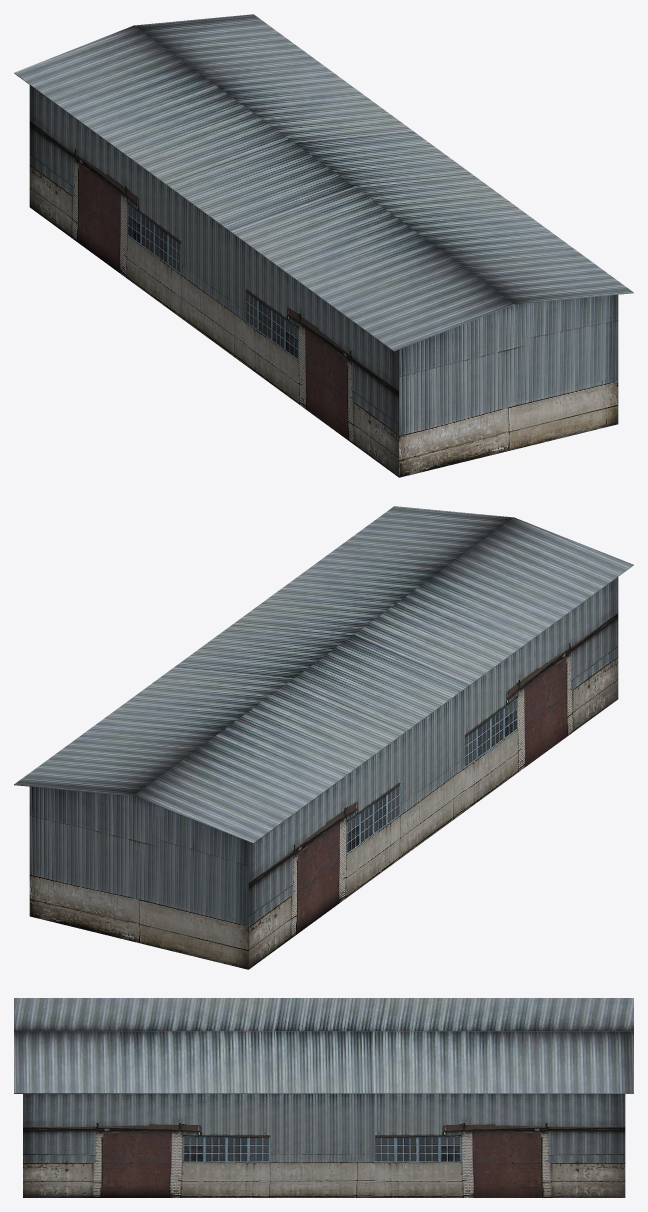
The model's file is d_sclad_22.FBX.
The picture shows the model from 3 angles, top to bottom: view 1: azimuth 30°, elevation 25°; view 2: azimuth 150°, elevation 25°; view 3: azimuth 270°, elevation 25°; orthographic projection. The views are drawn at different scales.
Parts seen in each view (by area): view 1: Box01; view 2: Box01; view 3: Box01.
Boxes of the visible parts, left/top/right/bottom form: Box01: left=14, top=14, right=633, bottom=477; Box01: left=14, top=506, right=633, bottom=969; Box01: left=14, top=998, right=633, bottom=1197.
Bounding box in the file's own units: 15.7 × 9.46 × 43.15.
Materials: 1 (1 with a texture image).
